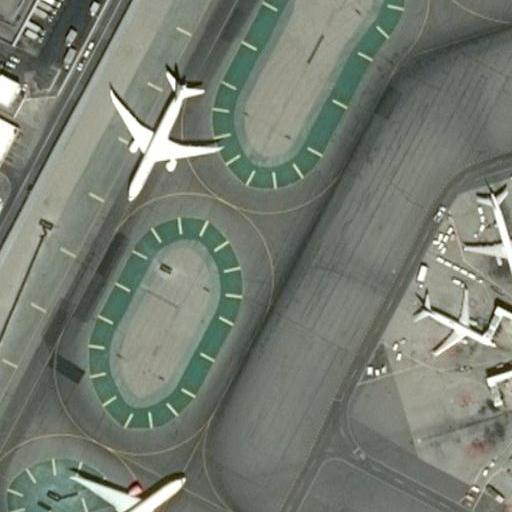Aircraft: (103, 62, 227, 202), (61, 456, 180, 512), (405, 286, 491, 356), (463, 189, 512, 302)
